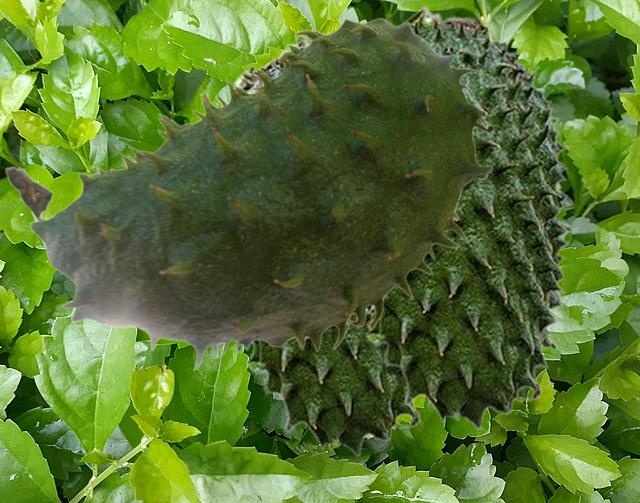guyabano: (4, 17, 494, 371), (353, 4, 574, 429), (226, 38, 425, 456)
